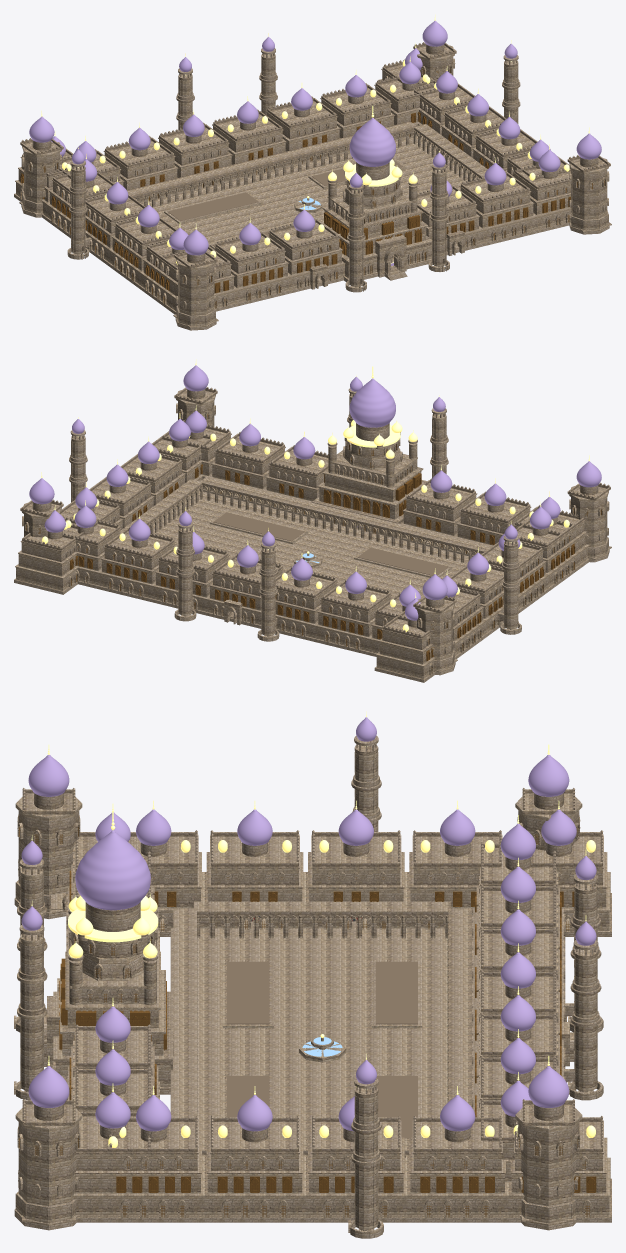
The model's file is qasr.glb.
3 renders of one model, top to bottom at view 1: azimuth 30°, elevation 25°; view 2: azimuth 150°, elevation 25°; view 3: azimuth 270°, elevation 25°, orthographic. The views are drawn at different scales.
Parts seen in each view (by area): view 1: qasr; view 2: qasr; view 3: qasr.
Part boxes in pixels (x1=…): qasr: x1=14, y1=14, x2=611, y2=330; qasr: x1=14, y1=359, x2=611, y2=682; qasr: x1=14, y1=711, x2=611, y2=1238.
Bounding box in the file's own units: 350 × 114 × 248.
8 materials, 3 textured.
